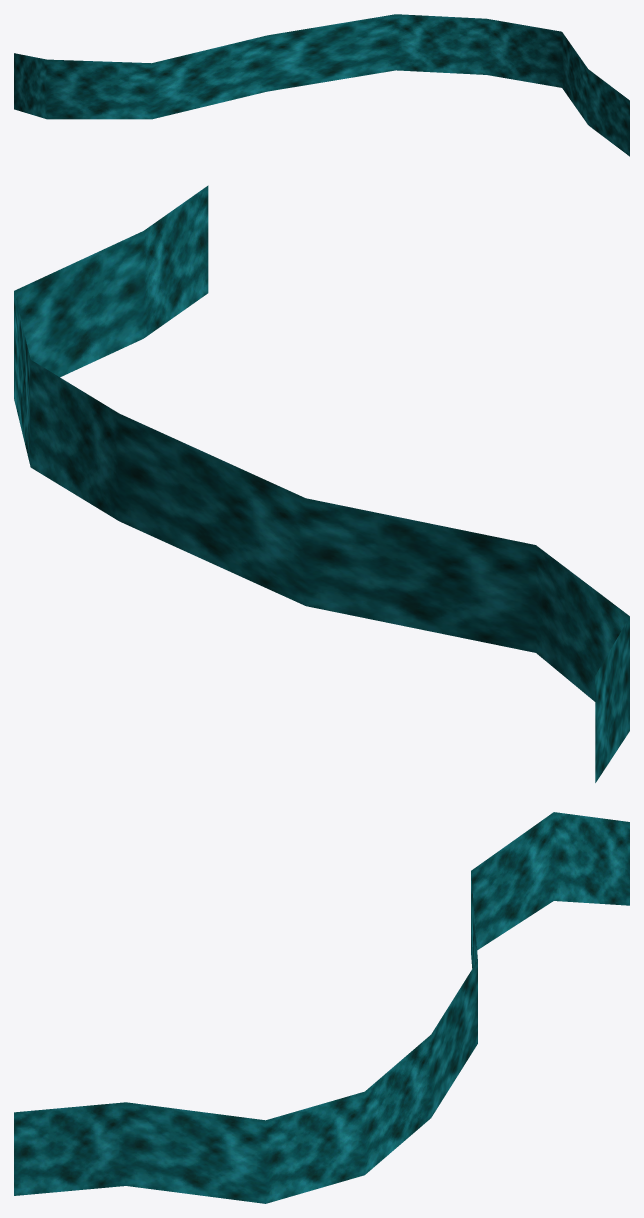
File: MIRKWOOD_FOGC.fbx
3 views of the same model, one above another, from view 1: azimuth 30°, elevation 25°; view 2: azimuth 150°, elevation 25°; view 3: azimuth 270°, elevation 25° (orthographic). The views are drawn at different scales.
Parts seen in each view (by area): view 1: MIRKWOOD_FOGC; view 2: MIRKWOOD_FOGC; view 3: MIRKWOOD_FOGC.
Part boxes in pixels (box(x1,y1,x2,y2)): MIRKWOOD_FOGC: box(14, 14, 629, 156); MIRKWOOD_FOGC: box(14, 185, 629, 782); MIRKWOOD_FOGC: box(14, 812, 629, 1203).
Bounding box in the file's own units: 656364 × 99043 × 553127.
Materials: 1 (1 with a texture image).
